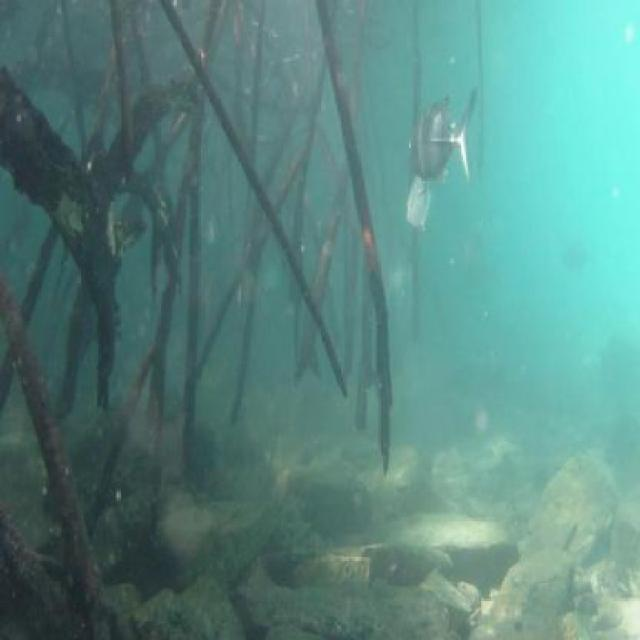Caranx_sexfasciatus_juvenile: (407, 92, 481, 192), (402, 170, 436, 242)
